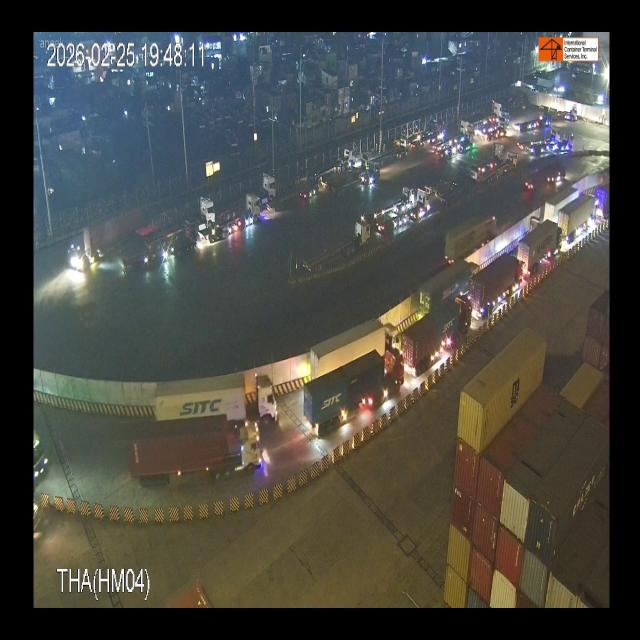truck: (300, 343, 410, 445), (123, 424, 273, 487), (302, 309, 403, 379), (150, 372, 278, 425), (402, 292, 475, 380), (418, 252, 484, 317), (465, 252, 524, 323), (148, 196, 218, 254), (513, 215, 568, 276), (558, 193, 606, 245), (214, 191, 264, 240), (250, 164, 278, 208)
